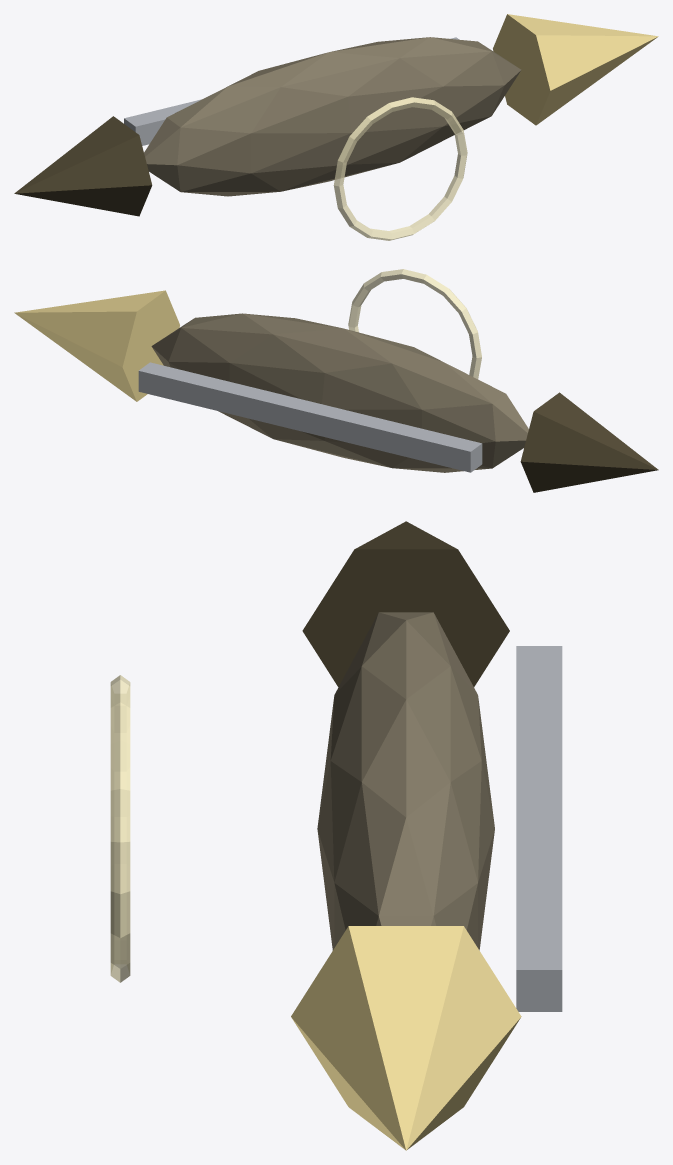
Rendered from 05_skyship_hull.glb.
3 renders of one model, top to bottom at view 1: azimuth 30°, elevation 25°; view 2: azimuth 150°, elevation 25°; view 3: azimuth 270°, elevation 25°, orthographic. The views are drawn at different scales.
Parts seen in each view (by area): view 1: hull_low_poly, bow_upgrade, stern_fin, size_class_ring, keel_plate; view 2: hull_low_poly, keel_plate, bow_upgrade, stern_fin, size_class_ring; view 3: hull_low_poly, bow_upgrade, keel_plate, stern_fin, size_class_ring.
Boxes of the visible parts, <box> form: hull_low_poly: <box>144,37,521,196</box>; bow_upgrade: <box>493,14,658,125</box>; stern_fin: <box>14,116,152,216</box>; size_class_ring: <box>333,97,467,240</box>; keel_plate: <box>124,37,458,145</box>; hull_low_poly: <box>151,313,528,472</box>; keel_plate: <box>138,362,482,472</box>; bow_upgrade: <box>14,290,179,401</box>; stern_fin: <box>520,392,658,492</box>; size_class_ring: <box>348,269,481,379</box>; hull_low_poly: <box>317,612,494,950</box>; bow_upgrade: <box>291,926,521,1150</box>; keel_plate: <box>516,646,562,1011</box>; stern_fin: <box>302,521,509,686</box>; size_class_ring: <box>110,675,130,982</box>.
Bounding box in the file's own units: 3.36 × 0.6862 × 1.02.
